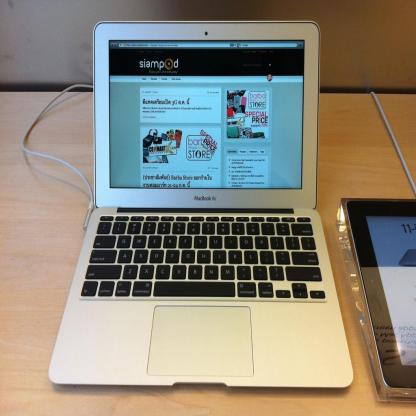board: (47, 18, 355, 390)
